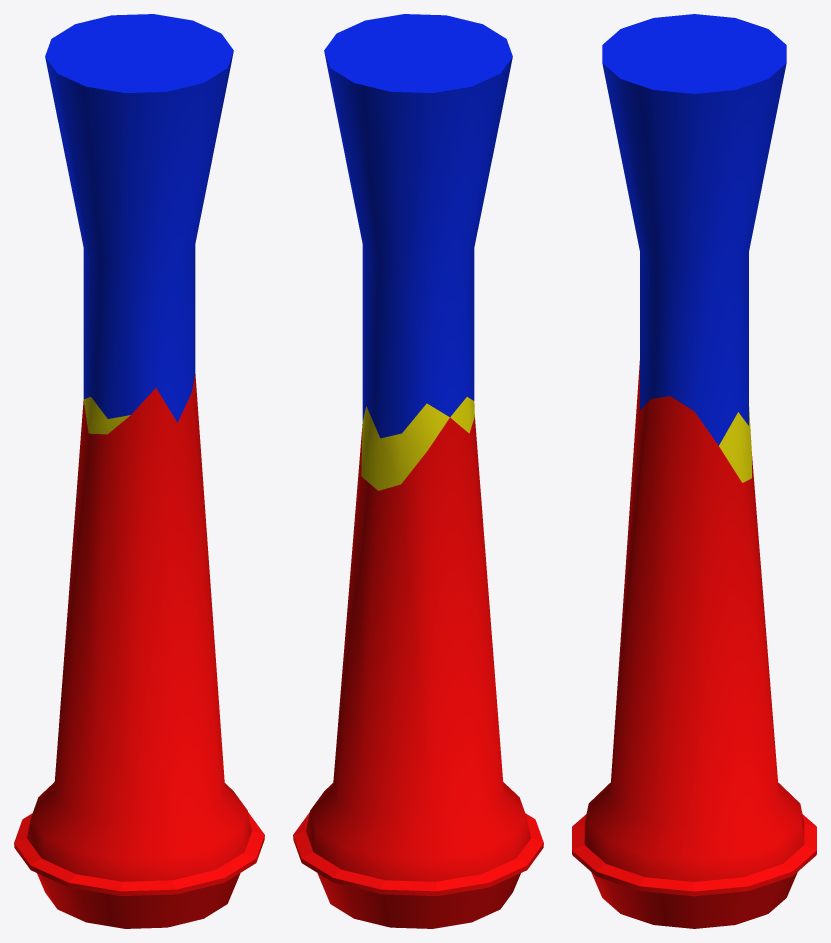
The model's file is body_C.FBX.
3 views of the same model, side by side, from view 1: azimuth 30°, elevation 25°; view 2: azimuth 150°, elevation 25°; view 3: azimuth 270°, elevation 25° (orthographic).
Parts seen in each view (by area): view 1: pillar_C_bodydown, pillar_C_bodyup, pillar_C_bodymiddle2; view 2: pillar_C_bodydown, pillar_C_bodyup, pillar_C_bodymiddle, pillar_C_bodymiddle2; view 3: pillar_C_bodydown, pillar_C_bodyup, pillar_C_bodymiddle.
Boxes of the visible parts, x1=… form: pillar_C_bodydown: x1=14, y1=374, x2=264, y2=928; pillar_C_bodyup: x1=45, y1=14, x2=233, y2=422; pillar_C_bodymiddle2: x1=83, y1=396, x2=130, y2=434; pillar_C_bodydown: x1=293, y1=417, x2=543, y2=928; pillar_C_bodyup: x1=324, y1=14, x2=512, y2=438; pillar_C_bodymiddle: x1=361, y1=403, x2=449, y2=490; pillar_C_bodymiddle2: x1=450, y1=397, x2=474, y2=433; pillar_C_bodydown: x1=572, y1=361, x2=816, y2=928; pillar_C_bodyup: x1=602, y1=14, x2=786, y2=445; pillar_C_bodymiddle: x1=719, y1=407, x2=751, y2=482.
Bounding box in the file's own units: 10.62 × 38.96 × 10.36.
